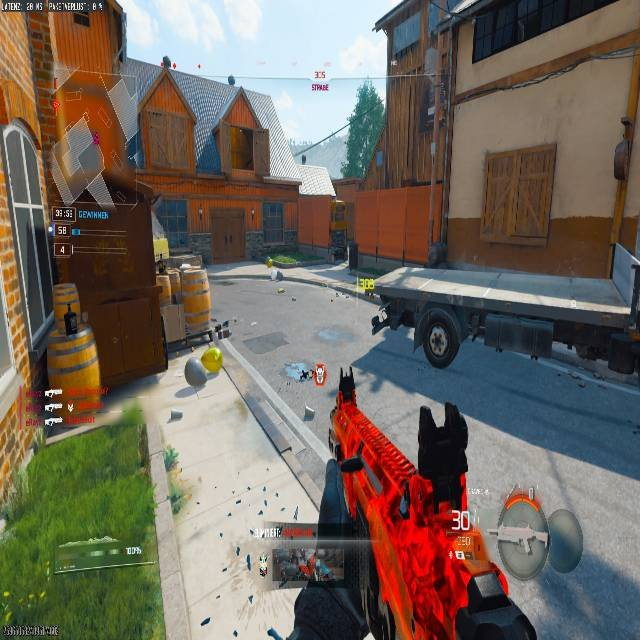player: (155, 254, 166, 273)
